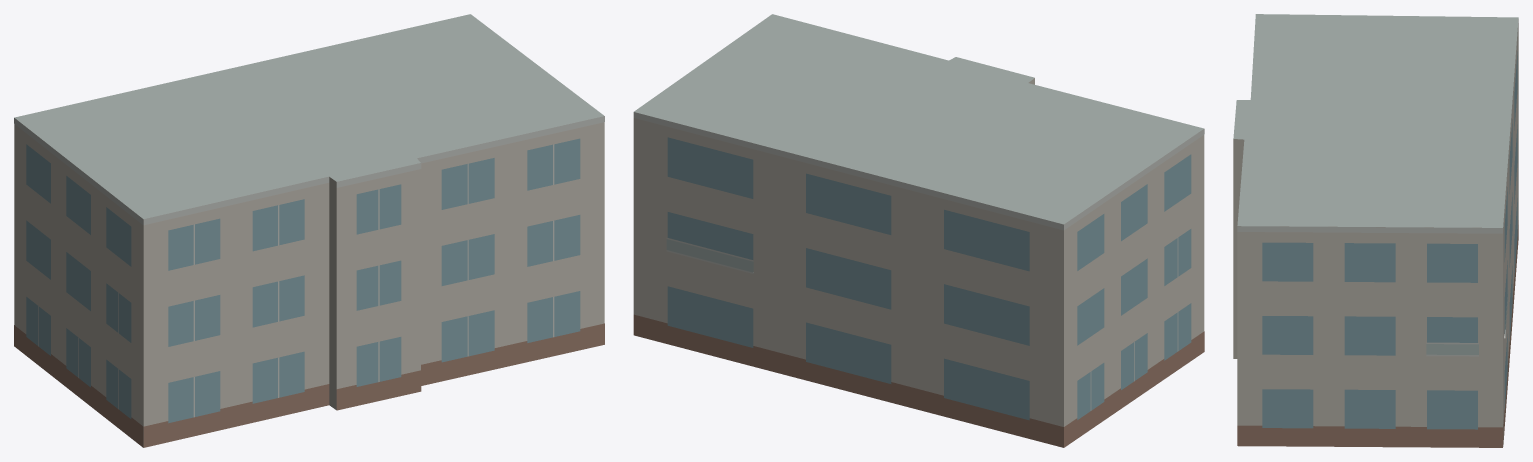
Rendered from survey-upis-33019344.glb.
3 renders of one model, left to right at view 1: azimuth 30°, elevation 25°; view 2: azimuth 150°, elevation 25°; view 3: azimuth 270°, elevation 25°, orthographic. The views are drawn at different scales.
Visible parts, largest first — view 1: survey-upis-33019344.tmp; view 2: survey-upis-33019344.tmp; view 3: survey-upis-33019344.tmp.
Part boxes in pixels (x1,y1,x2,y2): survey-upis-33019344.tmp: (14,14,604,447); survey-upis-33019344.tmp: (633,14,1204,447); survey-upis-33019344.tmp: (1233,14,1518,447).
Bounding box in the file's own units: 19.11 × 9.15 × 10.76.
